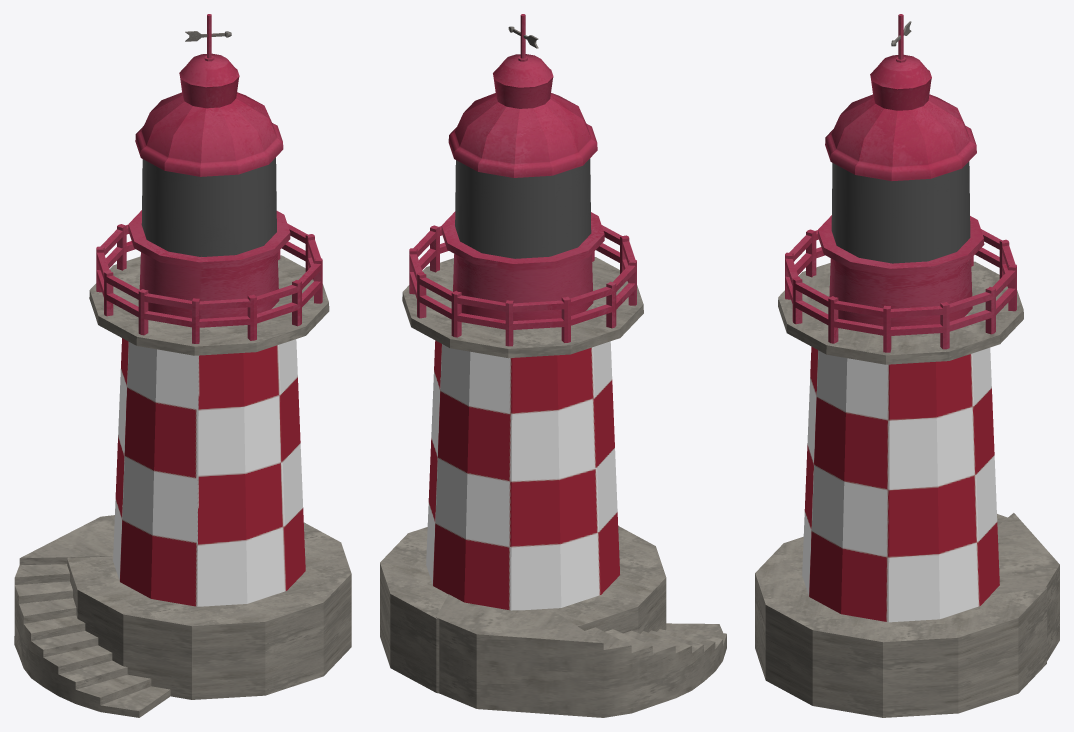
The model's file is lighthouseOff.glb.
3 views of the same model, side by side, from view 1: azimuth 30°, elevation 25°; view 2: azimuth 150°, elevation 25°; view 3: azimuth 270°, elevation 25° (orthographic). The views are drawn at different scales.
Visible parts, largest first — view 1: lighthouse tower_geo, lighthouse staircase_geo, lighthouse roof_geo, lighthouse upperRailing_geo; view 2: lighthouse tower_geo, lighthouse staircase_geo, lighthouse roof_geo, lighthouse upperRailing_geo; view 3: lighthouse tower_geo, lighthouse roof_geo, lighthouse upperRailing_geo, lighthouse staircase_geo.
Part boxes in pixels (x1=…): lighthouse tower_geo: x1=67, y1=157, x2=351, y2=699; lighthouse staircase_geo: x1=14, y1=515, x2=170, y2=717; lighthouse roof_geo: x1=135, y1=53, x2=283, y2=176; lighthouse upperRailing_geo: x1=96, y1=223, x2=322, y2=343; lighthouse tower_geo: x1=380, y1=158, x2=666, y2=693; lighthouse staircase_geo: x1=436, y1=594, x2=726, y2=717; lighthouse roof_geo: x1=448, y1=54, x2=597, y2=177; lighthouse upperRailing_geo: x1=409, y1=225, x2=636, y2=346; lighthouse tower_geo: x1=755, y1=161, x2=1046, y2=717; lighthouse roof_geo: x1=825, y1=55, x2=976, y2=180; lighthouse upperRailing_geo: x1=785, y1=229, x2=1016, y2=352; lighthouse staircase_geo: x1=990, y1=513, x2=1059, y2=660.
Size of the model in its own units: 0.46 by 0.928 by 0.3996.
1 material, 1 textured.
